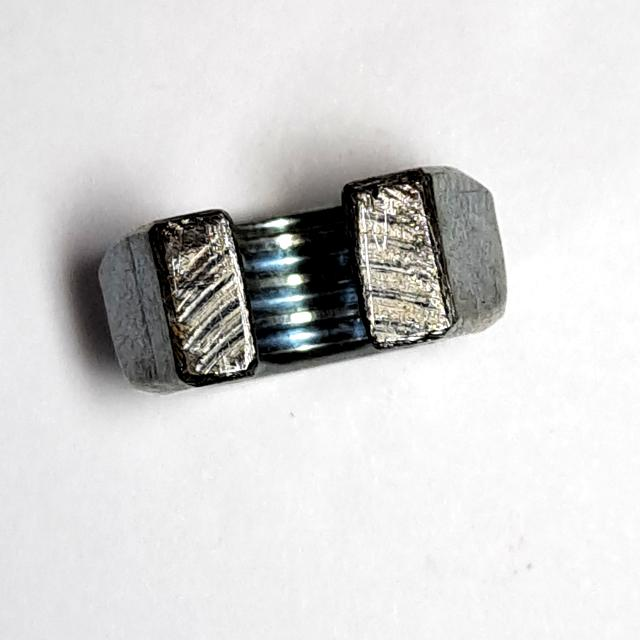Side-Fracture: (79, 156, 522, 408)
